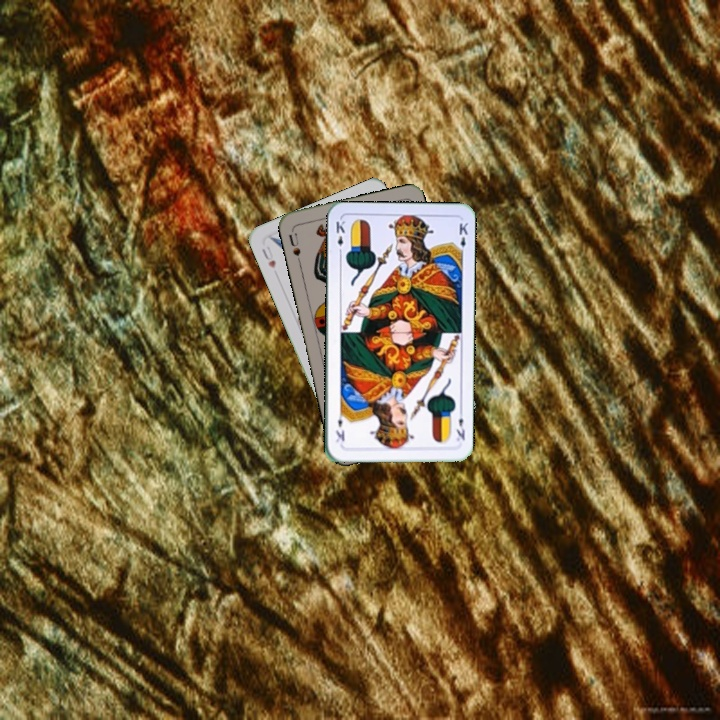EK: (332, 217, 348, 257), (452, 406, 467, 444)
HU: (258, 242, 278, 271)
SU: (285, 226, 303, 266)
